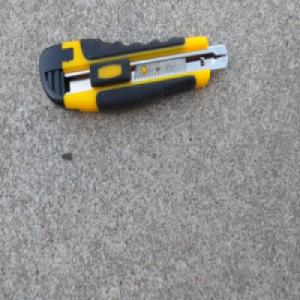Cutter: (38, 32, 229, 115)
